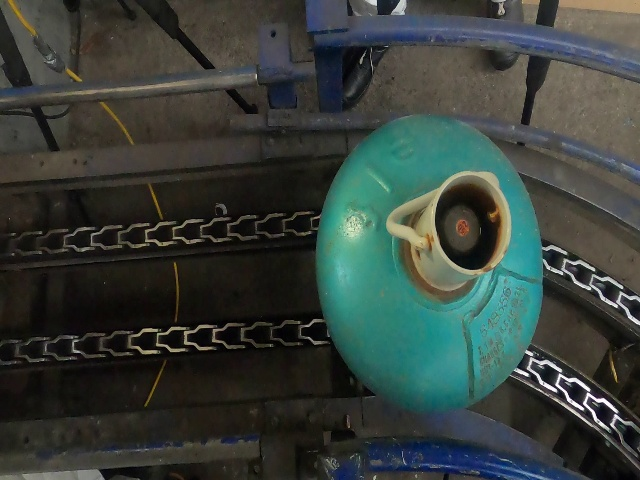gas_bottle: (2, 1, 640, 480)
